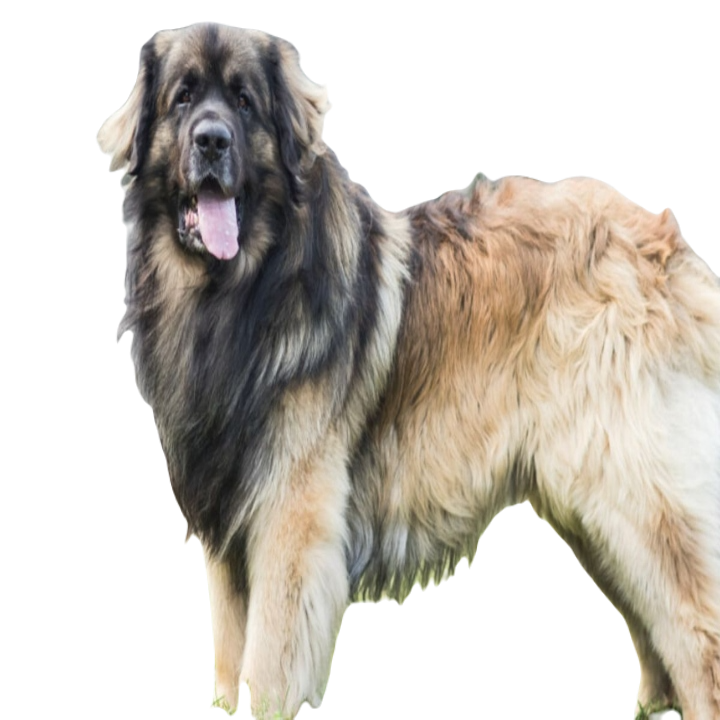Dog: (93, 22, 719, 717)
